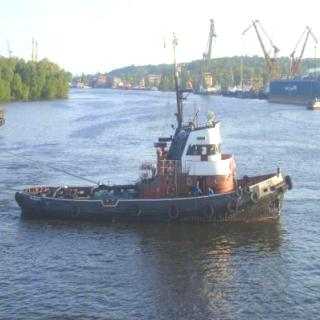Tug Boat: (20, 92, 289, 222)
